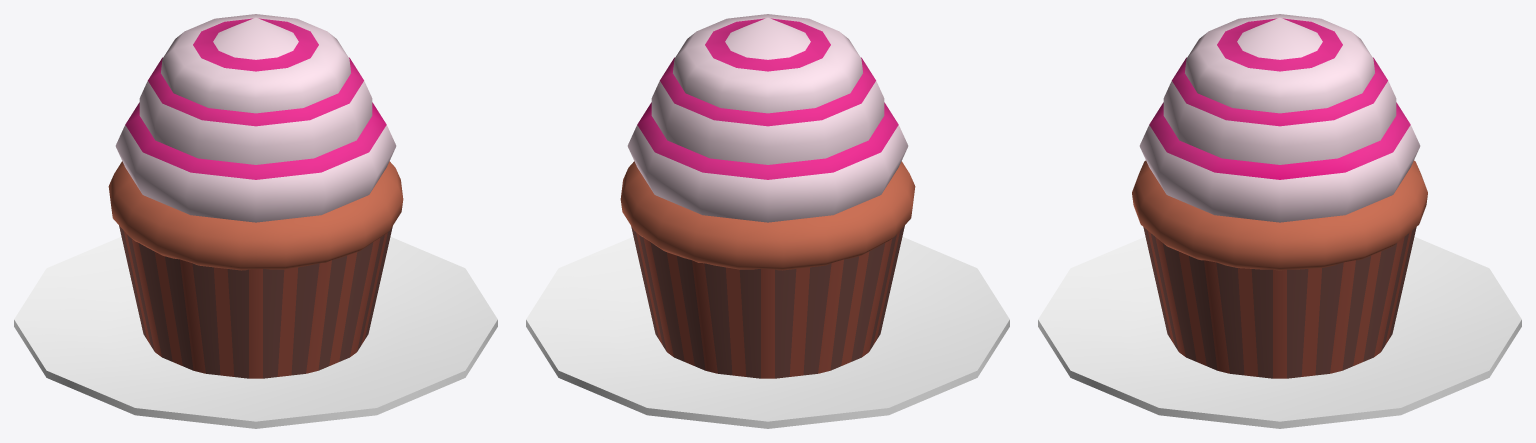
The model's file is CupcakeStrawBerry.fbx.
3 renders of one model, left to right at view 1: azimuth 30°, elevation 25°; view 2: azimuth 150°, elevation 25°; view 3: azimuth 270°, elevation 25°, orthographic.
Visible parts, largest first — view 1: Cupcake_lv3; view 2: Cupcake_lv3; view 3: Cupcake_lv3.
Boxes of the visible parts, box(x1,y1,x2,y2) form: Cupcake_lv3: box(14, 14, 497, 428); Cupcake_lv3: box(526, 14, 1009, 428); Cupcake_lv3: box(1038, 14, 1521, 428).
Bounding box in the file's own units: 151 × 118 × 151.
